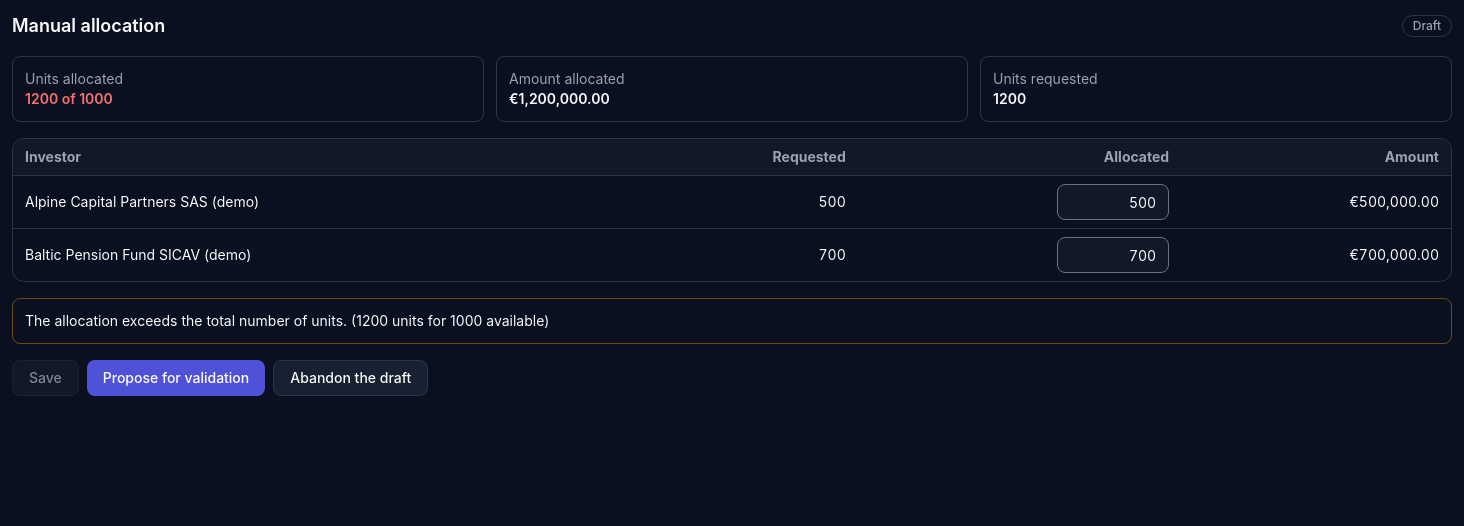
allocation tab › flags more units than requested, and asks a justification below the minimum
Step 1. Replace the text in the field named "Units allocated to Alpine Capital Partners SAS (demo)" with "501" → (1113, 202), box [1057,184,1169,220]
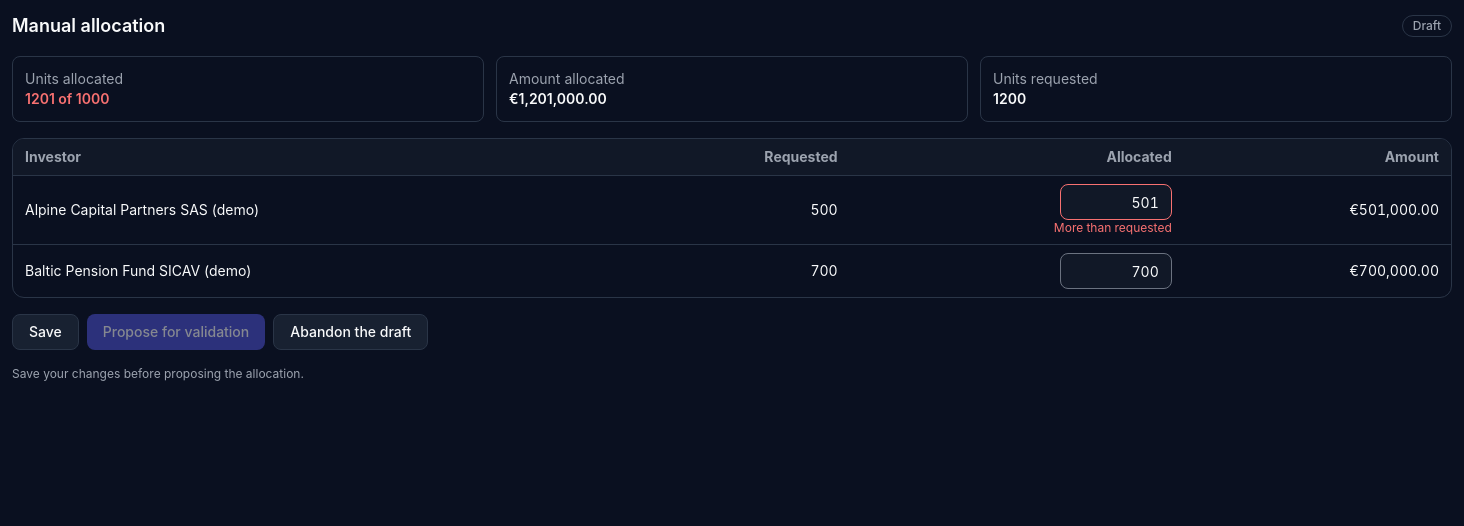
Check: the text "More than requested" is shown, box [1054,220,1172,235]
Step 2. Replace the text in the field named "Units allocated to Baltic Pension Fund SICAV (demo)" with "0" → (1116, 271), box [1060,253,1172,289]
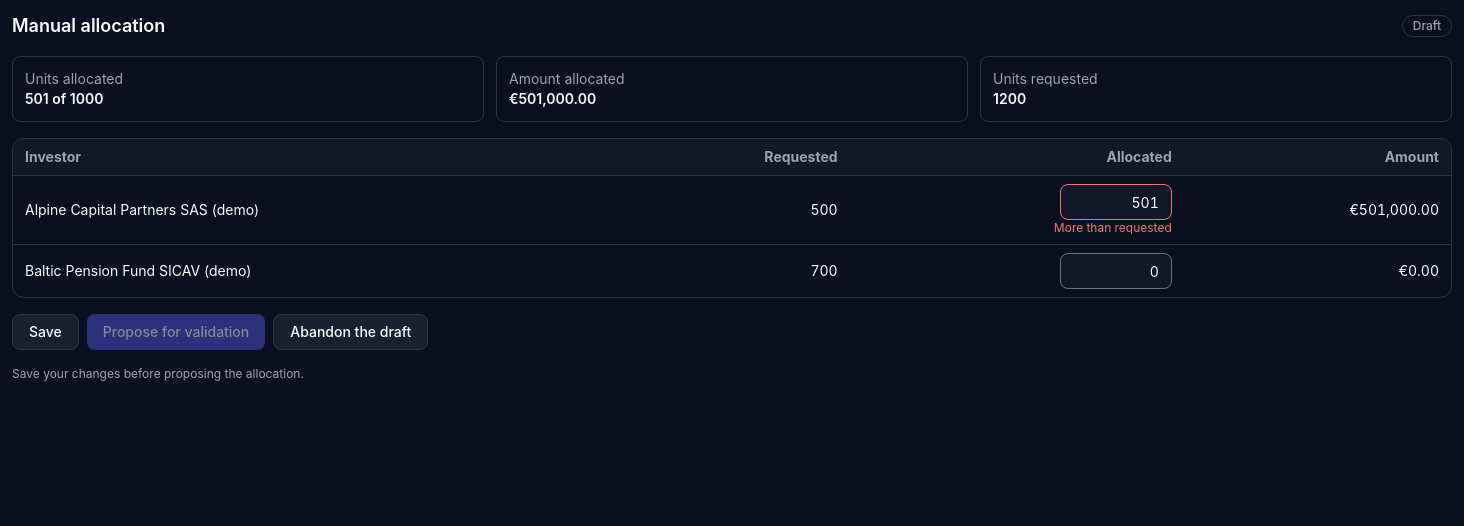
Step 3. Replace the text in the field named "Units allocated to Alpine Capital Partners SAS (demo)" with "100" → (1116, 202), box [1060,184,1172,220]
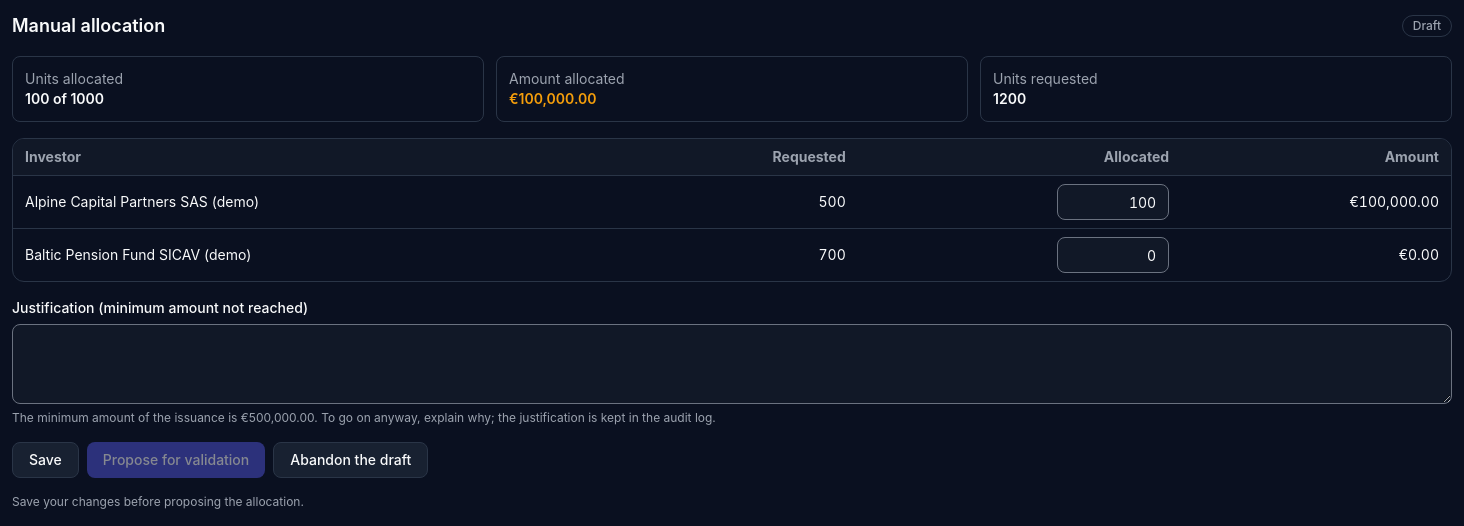
Check: the text box labelled "Justification (minimum amount not reached)" is shown, box [12,324,1452,404]
